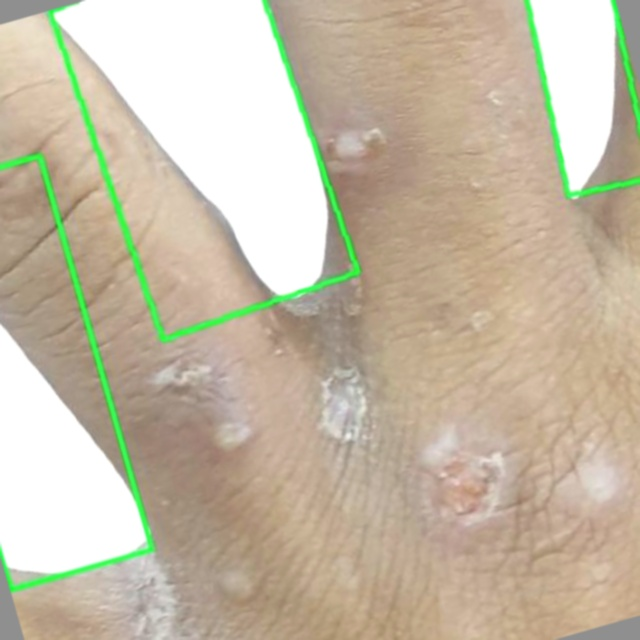Scabies: (51, 0, 358, 339), (0, 155, 151, 589)
